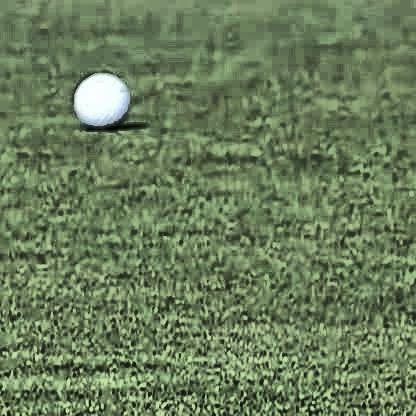golfball: (72, 65, 126, 124)
